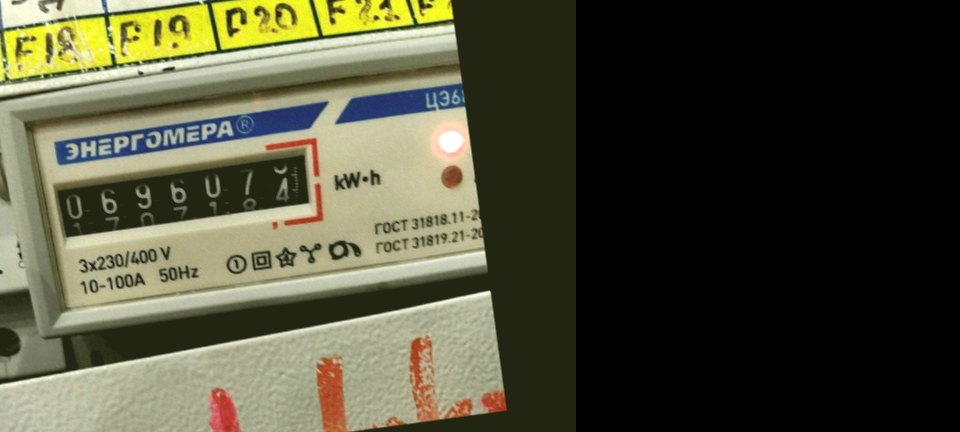0: (64, 189, 88, 221), (204, 167, 227, 199)
4: (272, 174, 295, 204)
6: (98, 183, 124, 216), (169, 174, 192, 204)
7: (238, 164, 259, 196)
9: (135, 180, 156, 211)
screen: (37, 130, 331, 257)
